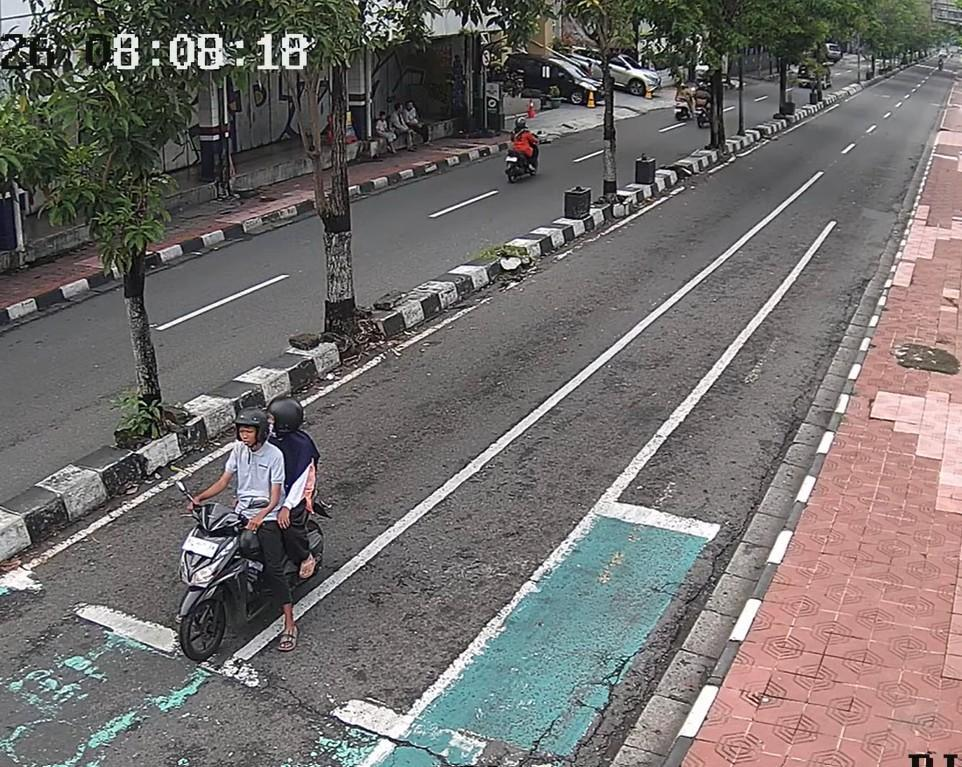Helmet: (268, 396, 303, 434), (234, 409, 268, 443), (514, 116, 525, 131)
Number Plate: (182, 537, 217, 557), (506, 157, 517, 162)
